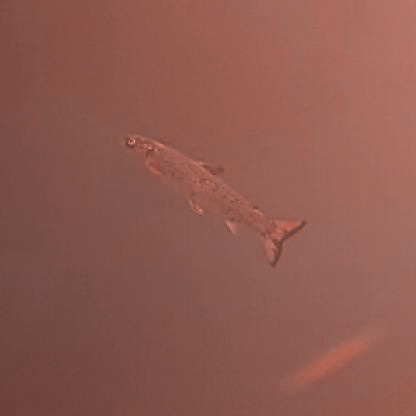salmon: (111, 125, 307, 267)
